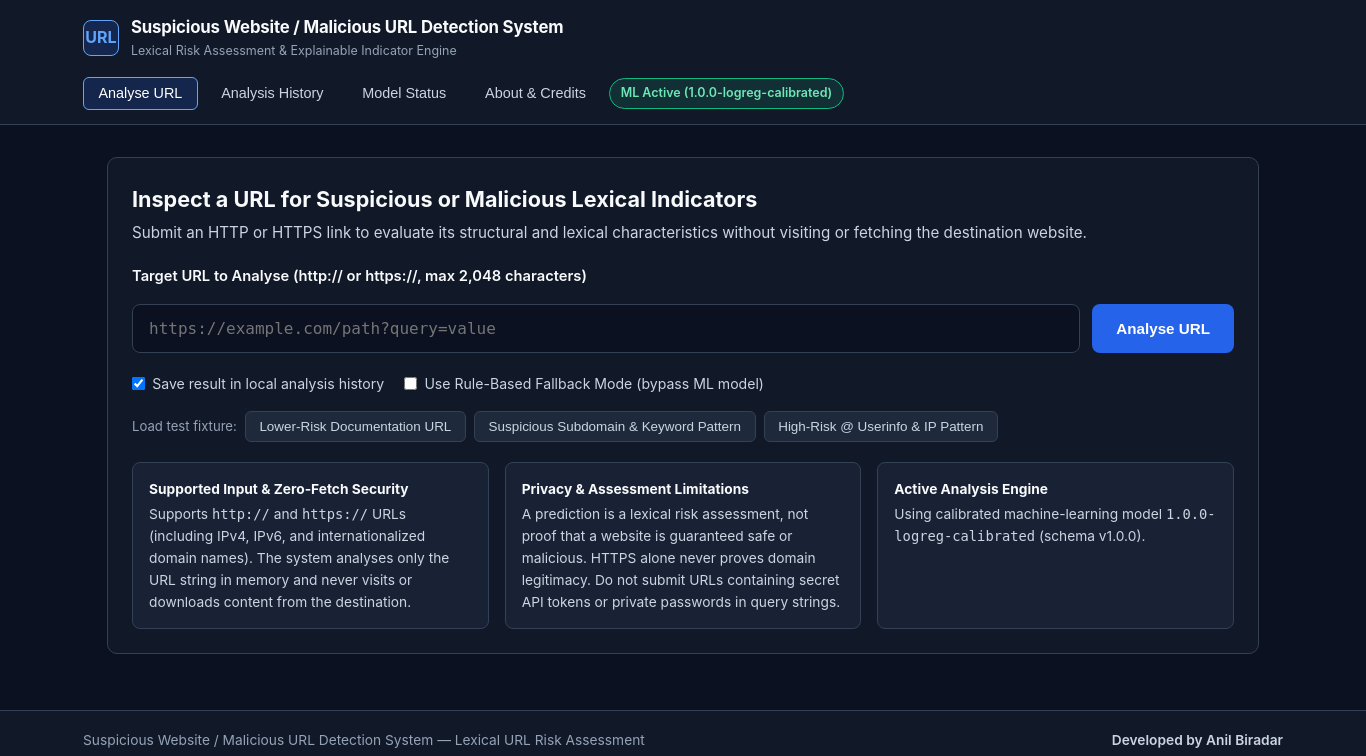
Test case: Frontend Application Suite (TC-30 to TC-34 & Branding Verification) › TC-34: Navigation across Model Status, History, and About/Credits pages works and remains accessible
# Navigate to Model Status
Click the button "Model Status": (404, 93) [347, 77, 462, 110]
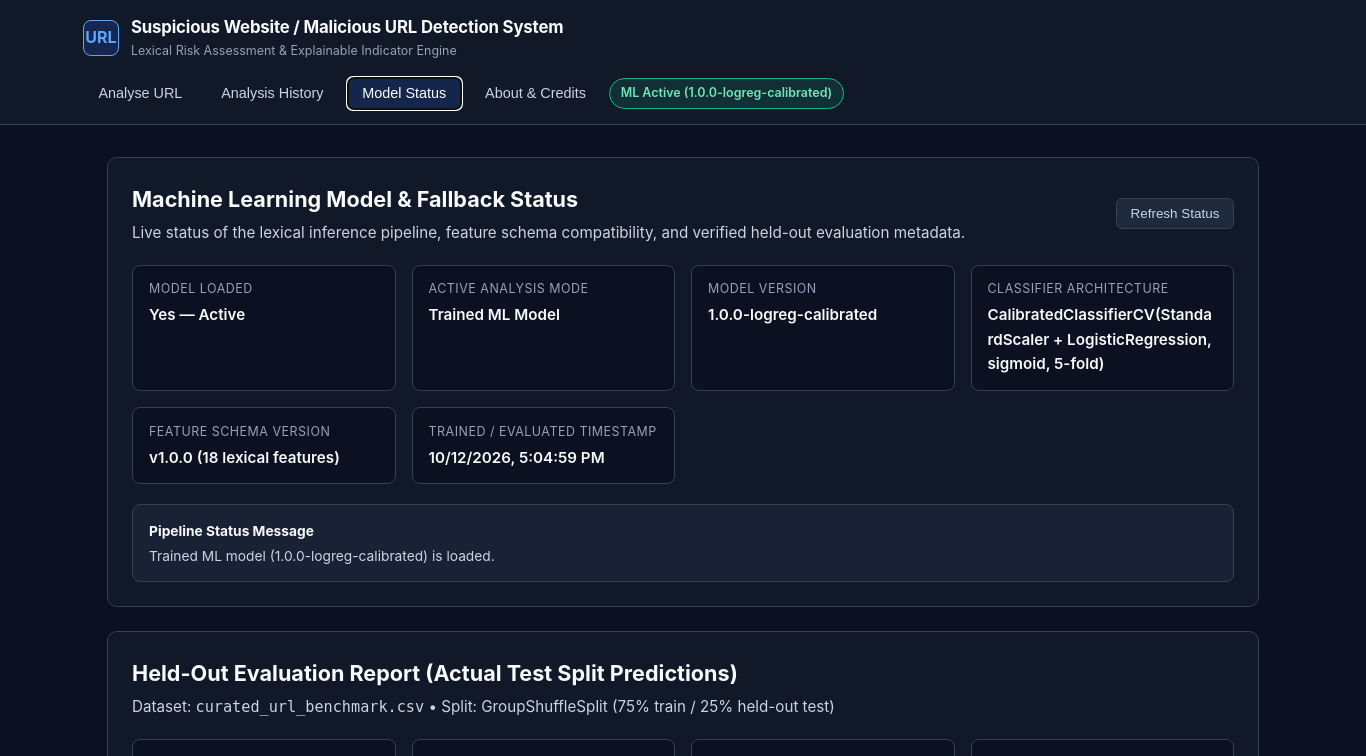
Check: the text with test id "model-loaded-indicator" reads "Yes — Active", box [149, 305, 245, 324]
# Navigate to History empty state
Click the button "Analysis History": (272, 93) [206, 77, 339, 110]
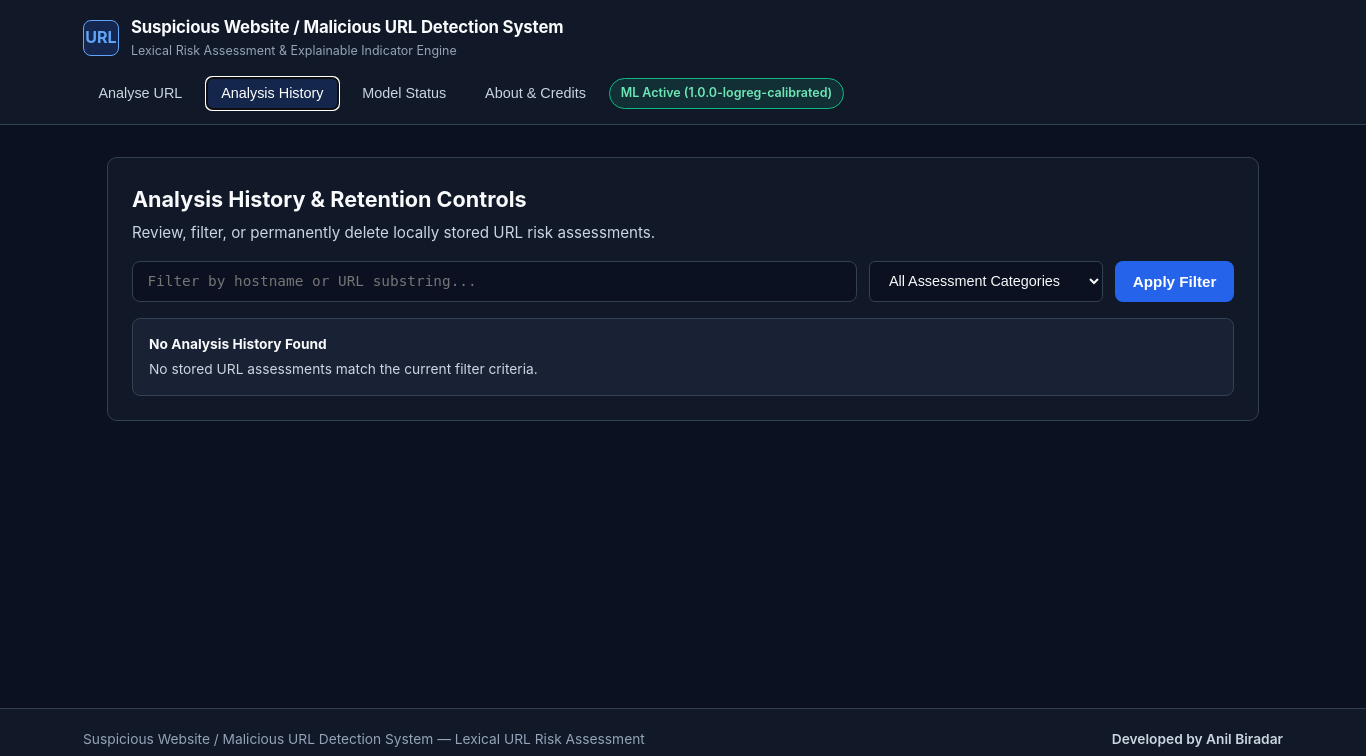
Check: the element with test id "empty-history-state" is shown, box [132, 318, 1234, 396]
# Navigate to About & Credits and verify 'Developer: Anil Biradar'
Click the button "About & Credits": (536, 93) [470, 77, 601, 110]
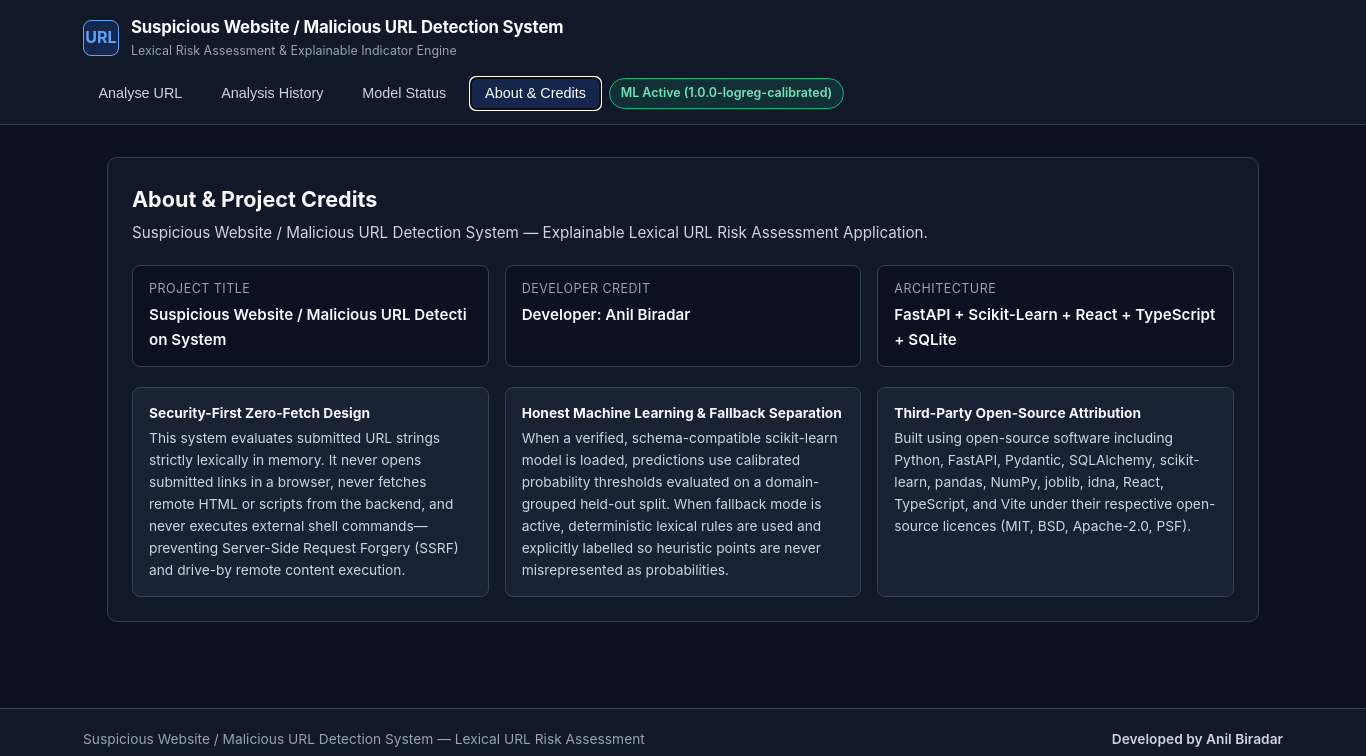
Check: the text with test id "developer-footer-credit" reads "Developed by Anil Biradar", box [1112, 731, 1283, 747]
Check: the text with test id "about-developer-credit" reads "Developer: Anil Biradar", box [522, 305, 690, 324]
